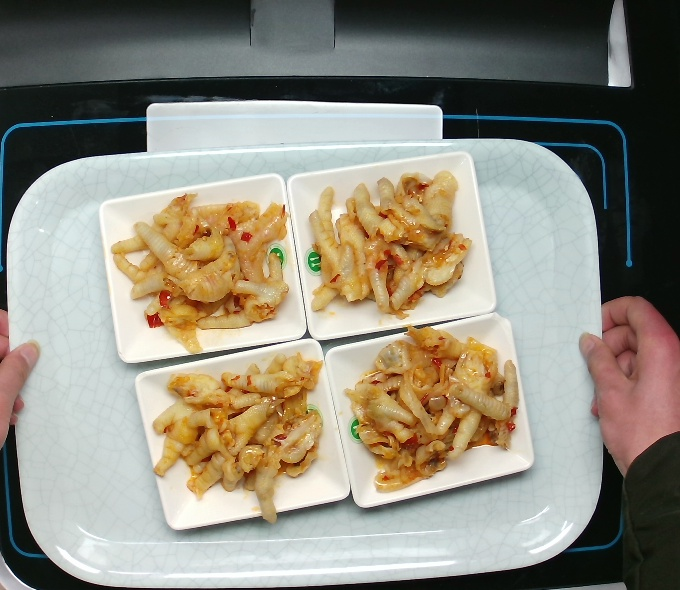wcq-LuJiZhua: (142, 334, 331, 528), (108, 176, 295, 357), (341, 318, 525, 493), (299, 158, 474, 326)
